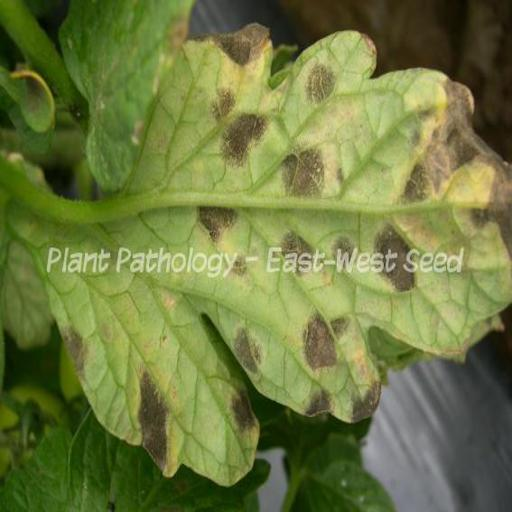Leaf Mold: (106, 24, 504, 474)
